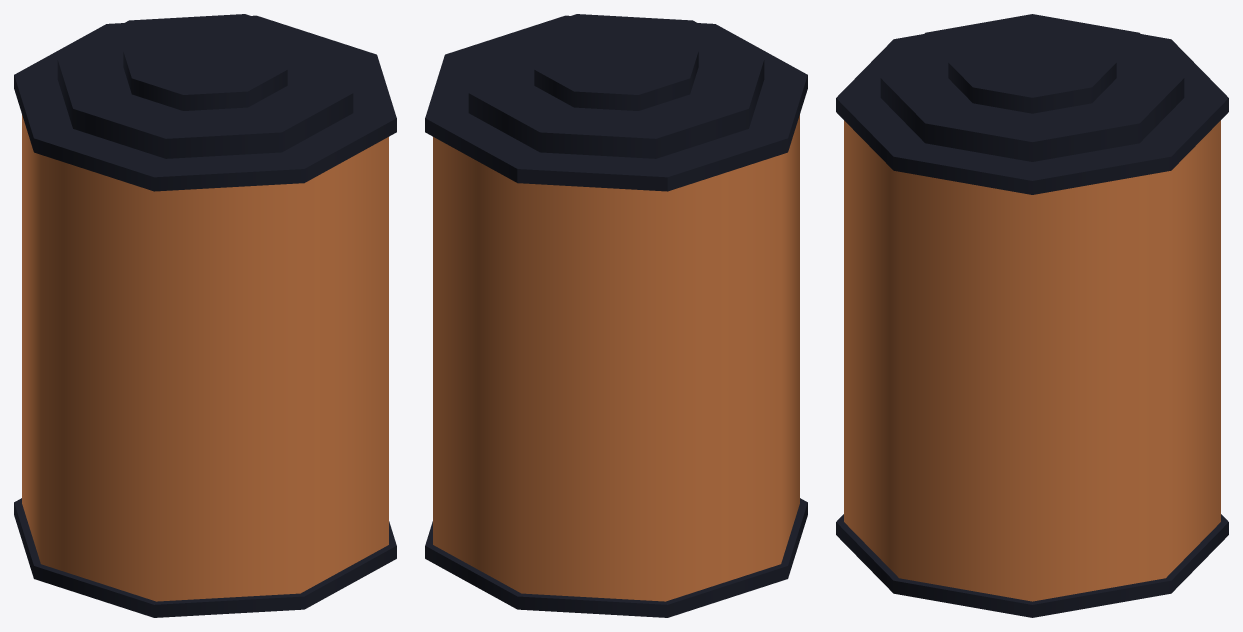
The model's file is Carrete camara.fbx.
The picture shows the model from 3 angles, left to right: view 1: azimuth 30°, elevation 25°; view 2: azimuth 150°, elevation 25°; view 3: azimuth 270°, elevation 25°; orthographic projection.
Parts seen in each view (by area): view 1: Cylinder; view 2: Cylinder; view 3: Cylinder.
Boxes of the visible parts, bbox=[...] form: Cylinder: bbox=[14, 14, 396, 617]; Cylinder: bbox=[425, 14, 807, 617]; Cylinder: bbox=[836, 14, 1228, 617].
Bounding box in the file's own units: 5.21 × 6.92 × 5.21.
